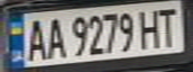2: (84, 11, 106, 56)
7: (103, 10, 121, 54)
9: (66, 12, 87, 59), (118, 8, 139, 52)
A: (21, 15, 48, 62), (42, 15, 66, 60)
H: (136, 6, 163, 49)
T: (154, 4, 184, 47)
